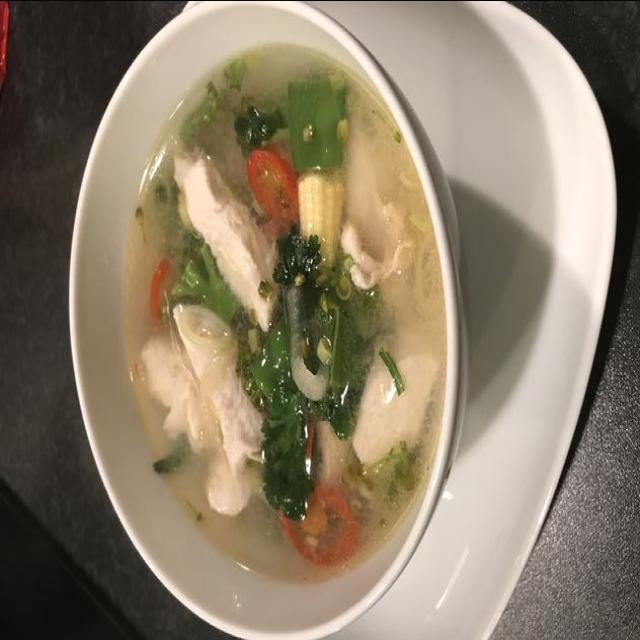sop: (124, 42, 448, 582)
